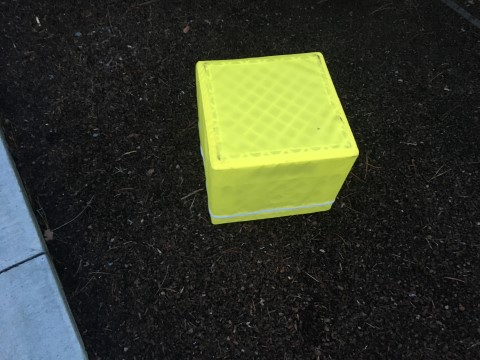cube: (195, 50, 359, 227)
